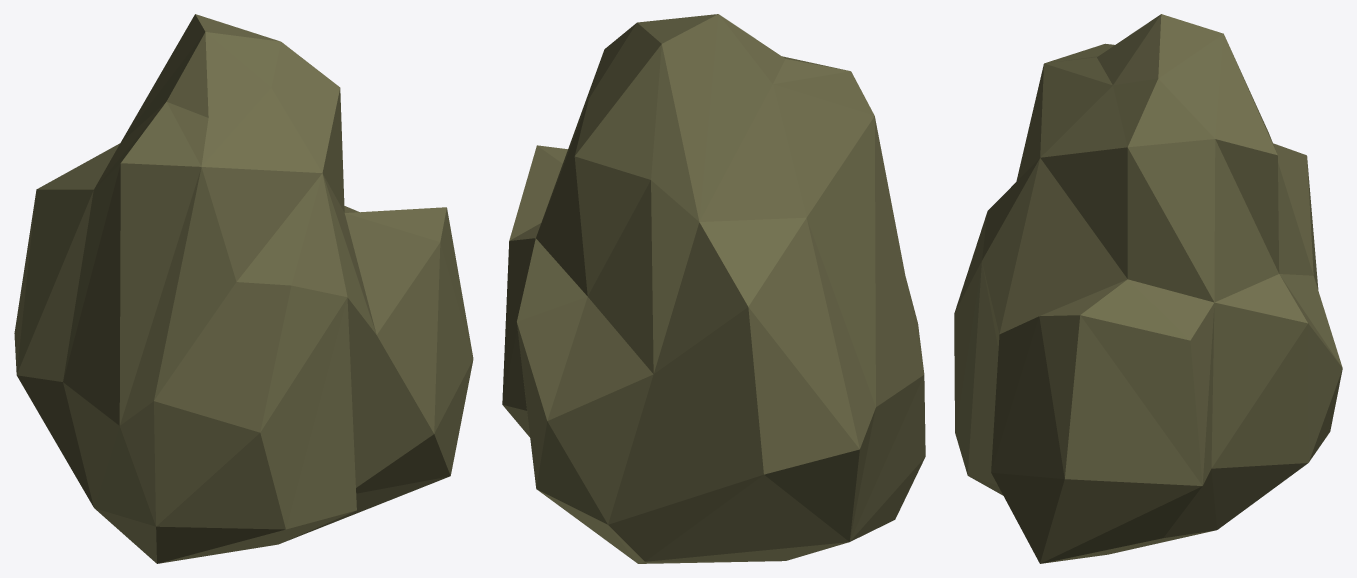
The model's file is SM_Env_Bush_Small_01.glb.
3 views of the same model, side by side, from view 1: azimuth 30°, elevation 25°; view 2: azimuth 150°, elevation 25°; view 3: azimuth 270°, elevation 25° (orthographic). The views are drawn at different scales.
Parts seen in each view (by area): view 1: SM_Env_Bush_Small_01; view 2: SM_Env_Bush_Small_01; view 3: SM_Env_Bush_Small_01.
Boxes of the visible parts, x1,y1,x2,y2 form: SM_Env_Bush_Small_01: (14, 14, 473, 563); SM_Env_Bush_Small_01: (502, 14, 925, 563); SM_Env_Bush_Small_01: (954, 14, 1342, 563).
Bounding box in the file's own units: 1.19 × 1.52 × 1.04.
1 material, 1 textured.
